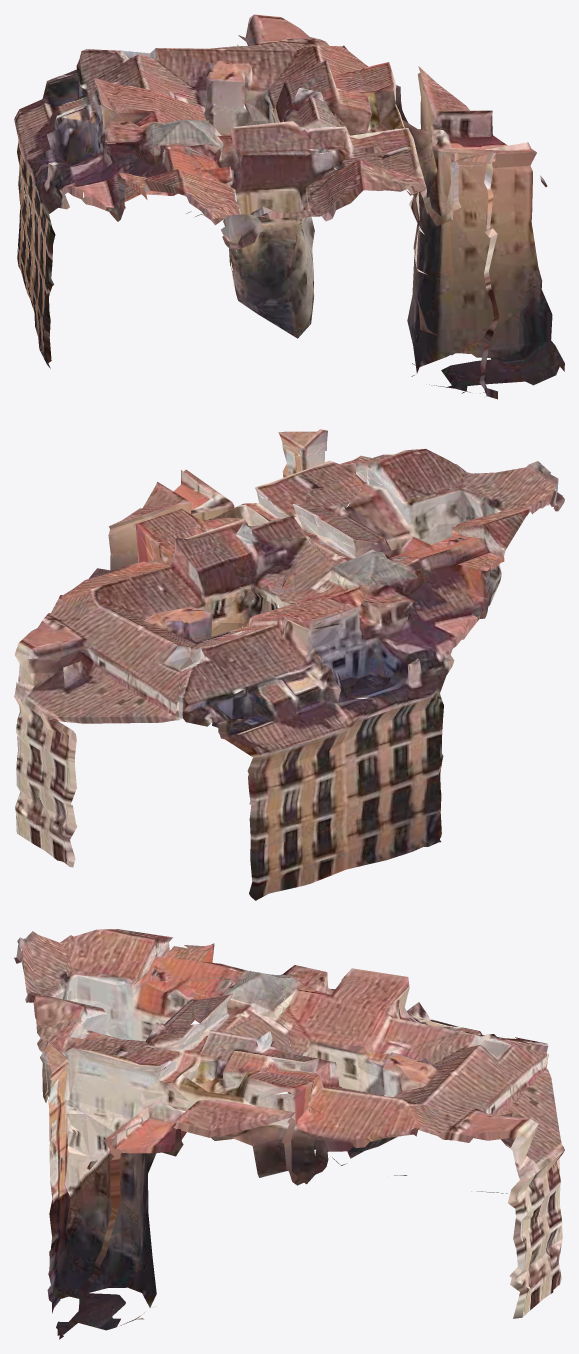
The picture shows the model from 3 angles, top to bottom: view 1: azimuth 30°, elevation 25°; view 2: azimuth 150°, elevation 25°; view 3: azimuth 270°, elevation 25°; orthographic projection. The views are drawn at different scales.
Parts seen in each view (by area): view 1: Mesh_0; view 2: Mesh_0; view 3: Mesh_0.
Part boxes in pixels (<box>): Mesh_0: <box>14,14,564,399</box>; Mesh_0: <box>14,429,564,900</box>; Mesh_0: <box>14,929,564,1339</box>.
Size of the model in its own units: 31.95 by 21.23 by 41.1.
Materials: 2 (2 with a texture image).
